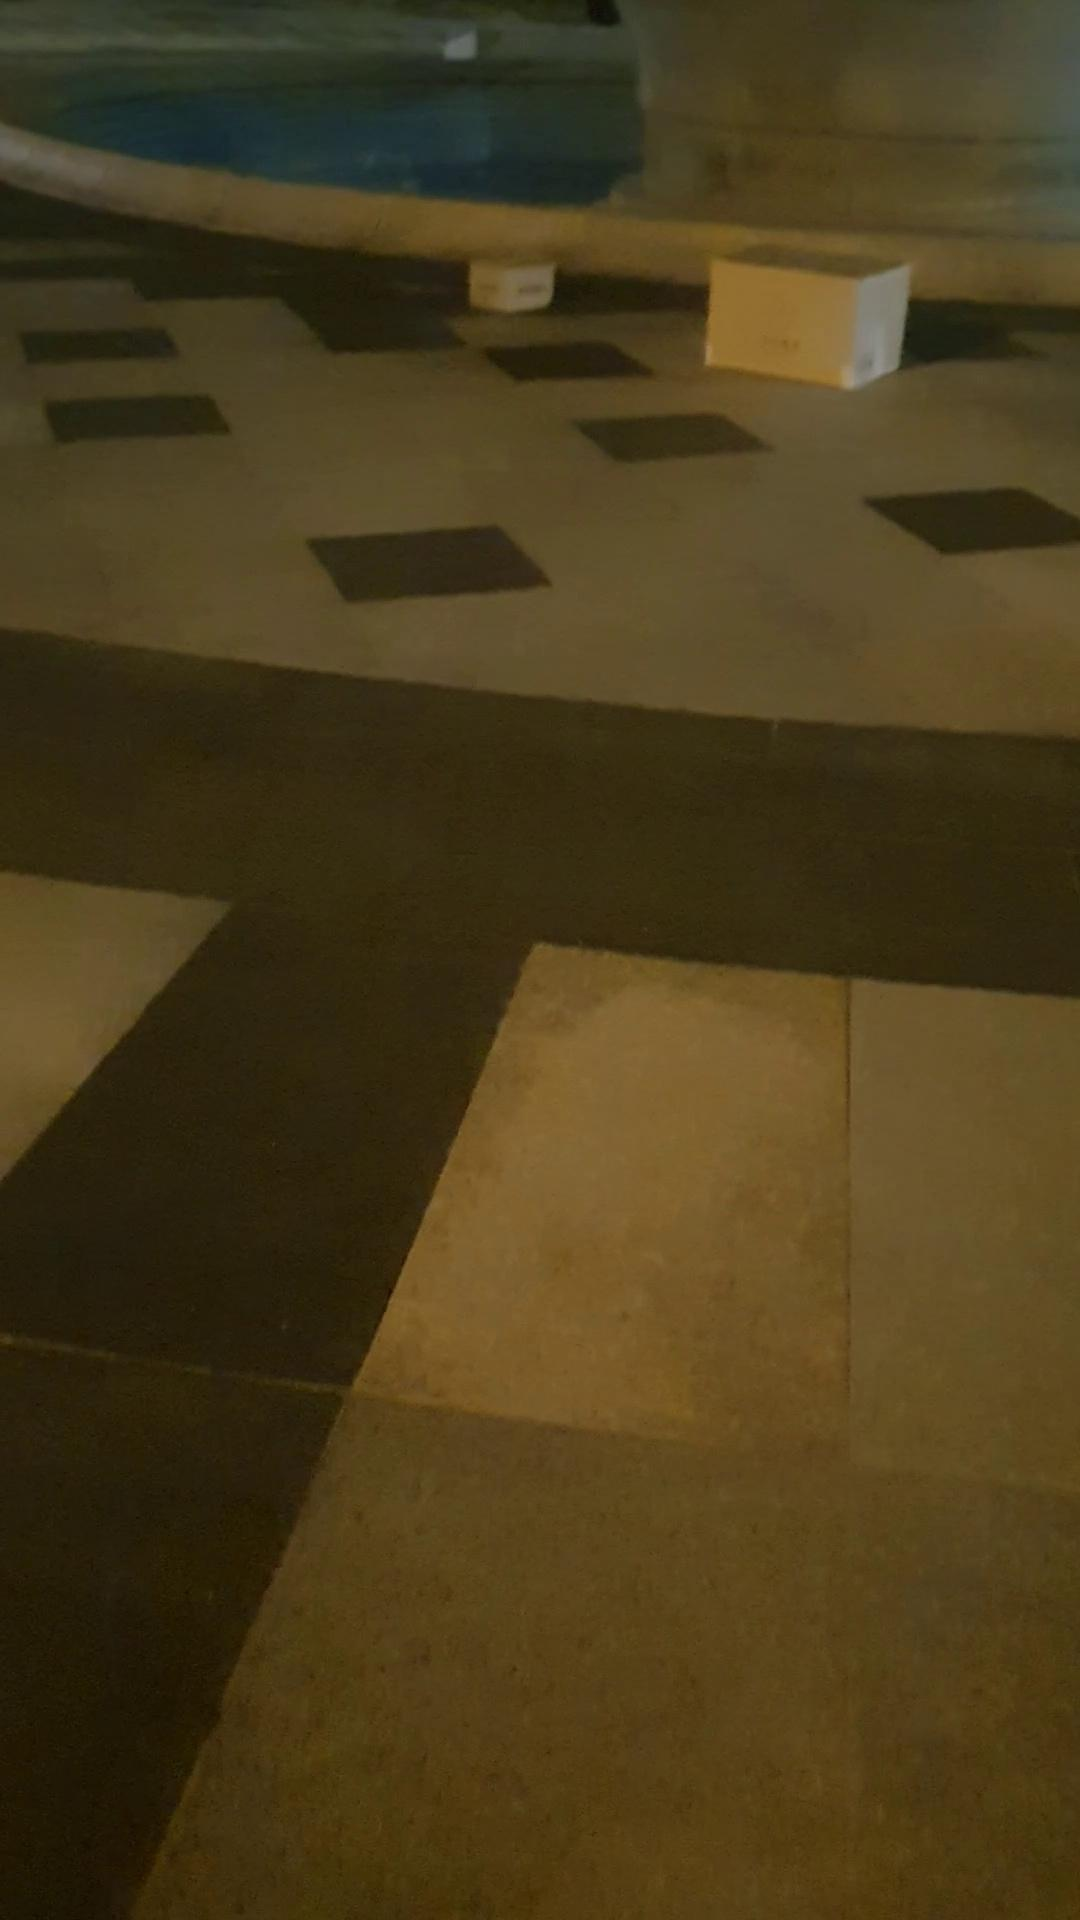Box: (702, 229, 916, 400), (458, 240, 562, 314)
